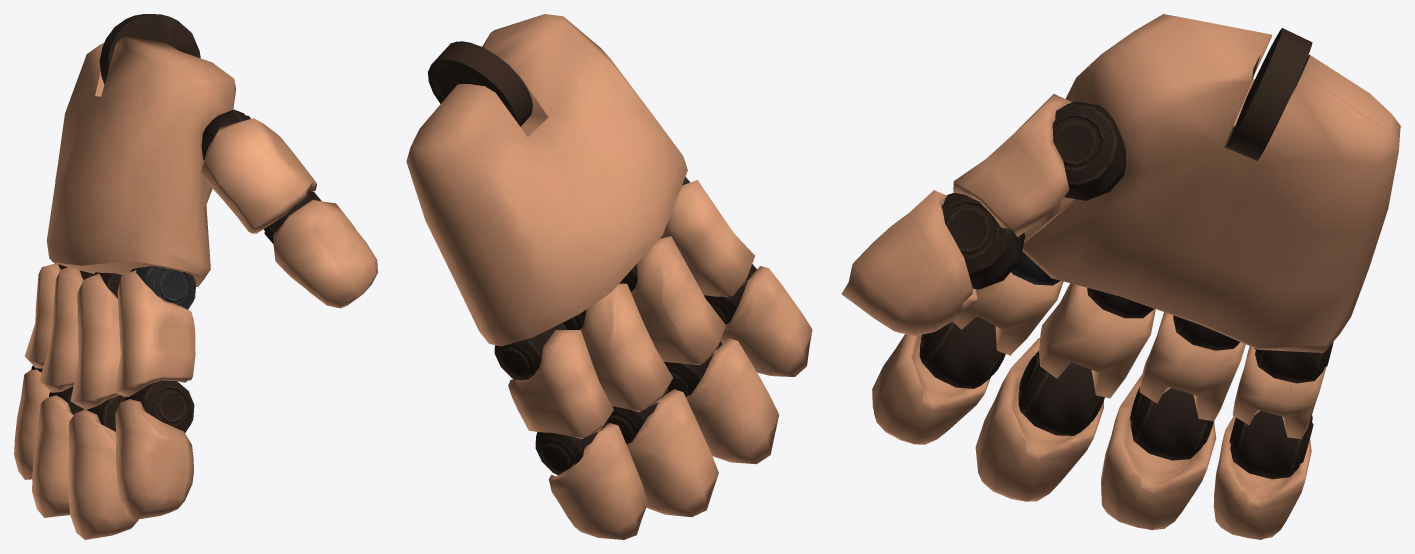
Rendered from handR.fbx.
3 renders of one model, left to right at view 1: azimuth 30°, elevation 25°; view 2: azimuth 150°, elevation 25°; view 3: azimuth 270°, elevation 25°, orthographic. The views are drawn at different scales.
Parts seen in each view (by area): view 1: matte_0.008, matte_22.002, matte_11.002, matte_21.002, matte_12.002, matte_32.002, matte_31.002, matte_42.002, matte_41.002, matte_52.002, matte_51.002; view 2: matte_0.008, matte_51.002, matte_52.002, matte_42.002, matte_32.002, matte_31.002, matte_41.002, matte_22.002, matte_21.002; view 3: matte_0.008, matte_12.002, matte_11.002, matte_32.002, matte_42.002, matte_22.002, matte_52.002, matte_31.002, matte_41.002, matte_51.002, matte_21.002.
Part boxes in pixels (x1=…): matte_0.008: x1=46, y1=14, x2=235, y2=286; matte_22.002: x1=115, y1=380, x2=194, y2=519; matte_11.002: x1=200, y1=109, x2=316, y2=233; matte_21.002: x1=115, y1=266, x2=196, y2=397; matte_12.002: x1=263, y1=190, x2=377, y2=308; matte_32.002: x1=68, y1=395, x2=138, y2=539; matte_31.002: x1=70, y1=272, x2=122, y2=409; matte_42.002: x1=32, y1=386, x2=84, y2=517; matte_41.002: x1=39, y1=267, x2=93, y2=392; matte_52.002: x1=14, y1=365, x2=50, y2=479; matte_51.002: x1=24, y1=263, x2=67, y2=368; matte_0.008: x1=406, y1=14, x2=687, y2=346; matte_51.002: x1=494, y1=323, x2=613, y2=438; matte_52.002: x1=535, y1=421, x2=648, y2=539; matte_42.002: x1=607, y1=389, x2=718, y2=517; matte_32.002: x1=664, y1=338, x2=778, y2=464; matte_31.002: x1=619, y1=236, x2=725, y2=364; matte_41.002: x1=562, y1=283, x2=672, y2=411; matte_22.002: x1=704, y1=264, x2=812, y2=376; matte_21.002: x1=660, y1=176, x2=754, y2=296; matte_0.008: x1=1022, y1=14, x2=1400, y2=352; matte_12.002: x1=841, y1=190, x2=1024, y2=335; matte_11.002: x1=953, y1=94, x2=1125, y2=242; matte_32.002: x1=975, y1=338, x2=1104, y2=501; matte_42.002: x1=1101, y1=375, x2=1216, y2=530; matte_22.002: x1=872, y1=316, x2=1005, y2=444; matte_52.002: x1=1213, y1=410, x2=1313, y2=539; matte_31.002: x1=1039, y1=283, x2=1155, y2=398; matte_41.002: x1=1139, y1=312, x2=1245, y2=421; matte_51.002: x1=1232, y1=342, x2=1333, y2=439; matte_21.002: x1=953, y1=251, x2=1063, y2=355.
Bounding box in the file's own units: 329 × 475 × 535.
1 material, 1 textured.
